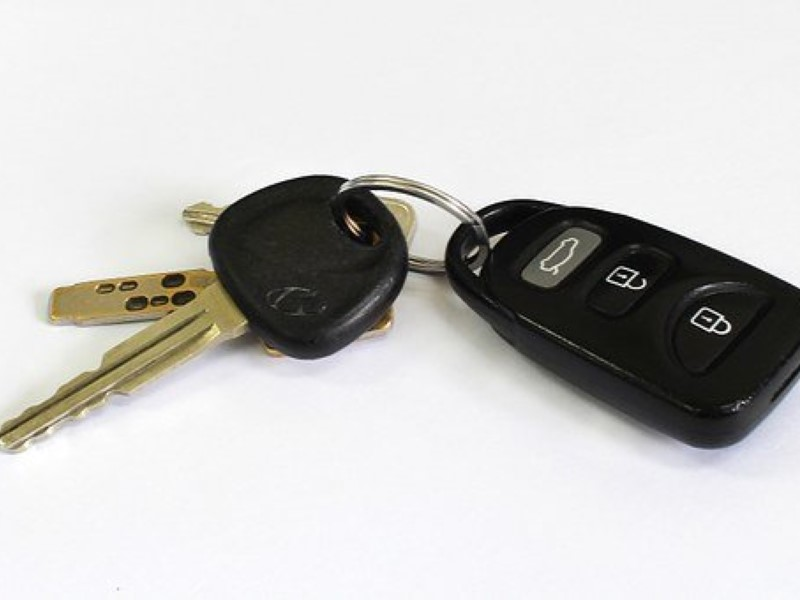carkey: (434, 193, 796, 459)
key: (1, 156, 412, 455)
